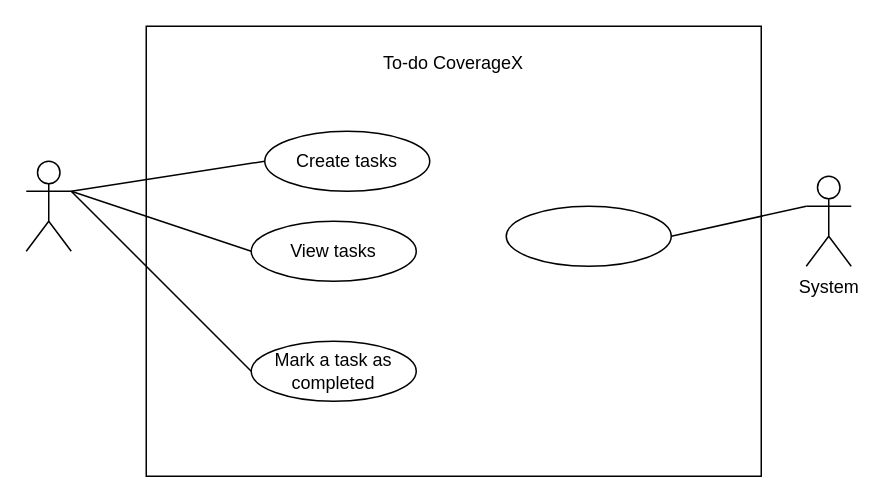
Some shapes in this 885 by 503 pixel diagram are drawn without their labels. The centre of each missing label's shape, as x and y in pixels:
"List tasks" goes at (588,235).
"User" goes at (48,205).
